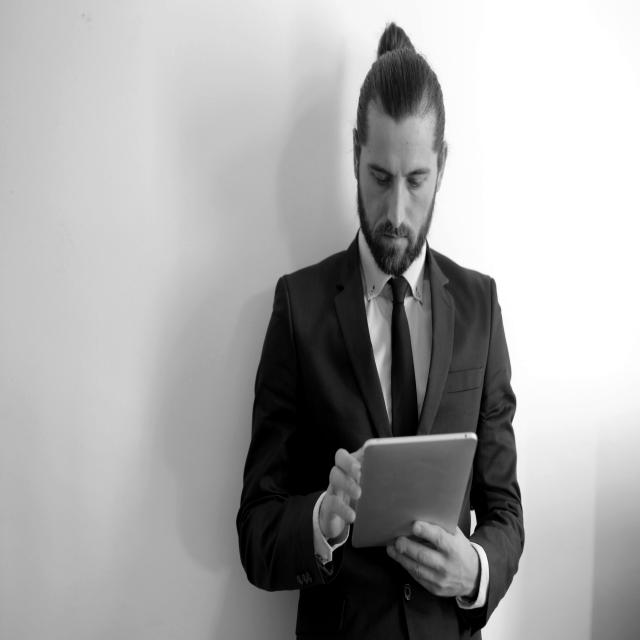No-Vest: (294, 254, 491, 640)
